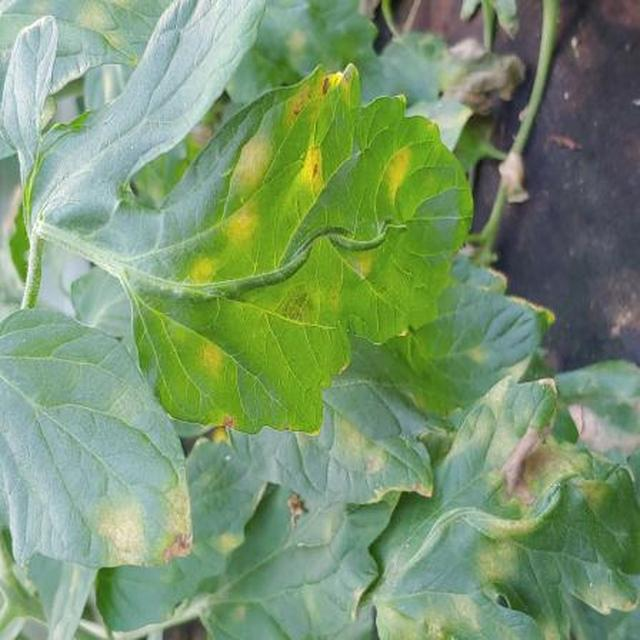Leaf Mold: (139, 313, 640, 627)
